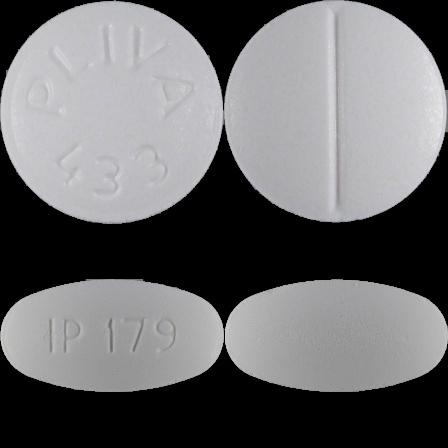10544-534: (0, 0, 224, 224)
